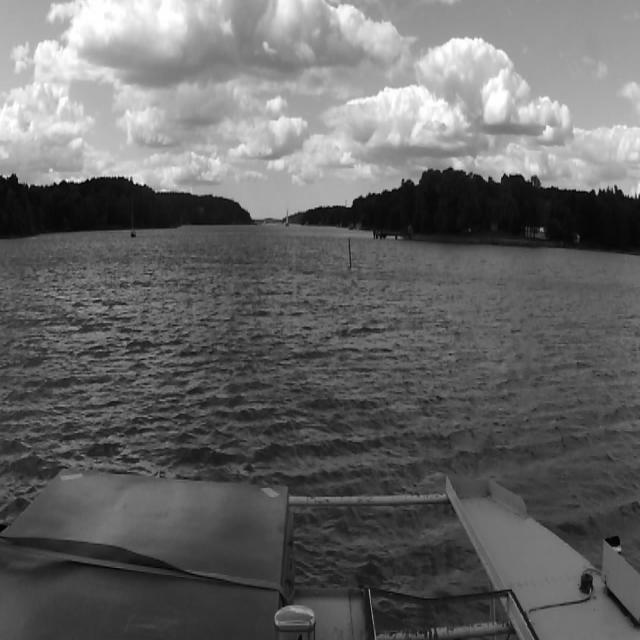buoy: (347, 237, 353, 266)
ship: (129, 188, 137, 238), (284, 206, 290, 230)
